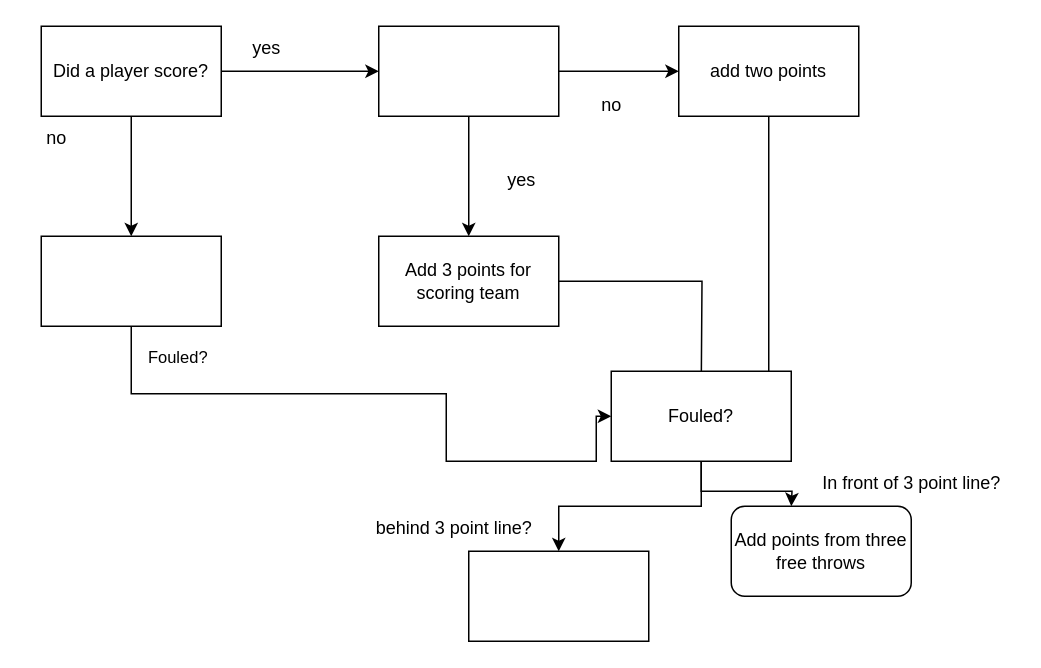
This 1041x668 diagram has some shape labels left out. The shapes that lost their labels are listed below. From the top down, each one's centre as x and y in pixels, then its label:
At (x=468, y=70): "Past three point line?".
At (x=130, y=280): "dont add any points".
At (x=558, y=595): "add points from two free throws".
